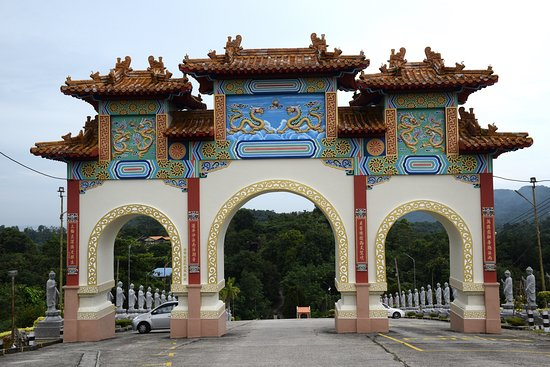Buddhist Temple: (48, 19, 496, 322)
